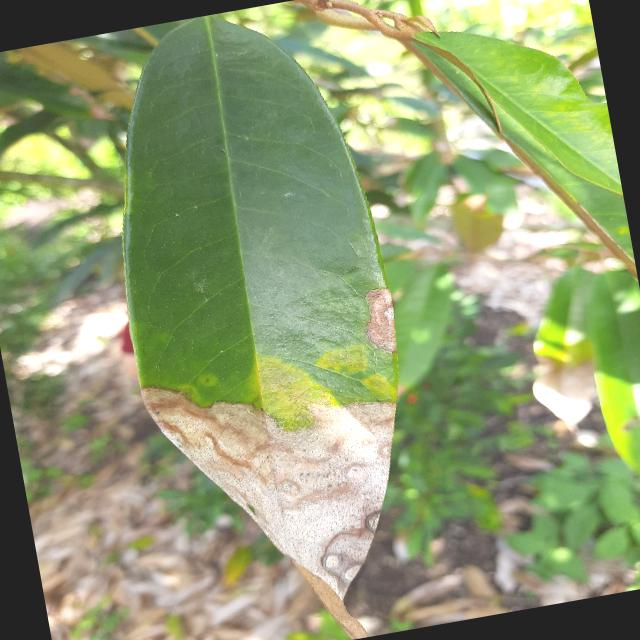Leaf Blight: (70, 0, 458, 639)
